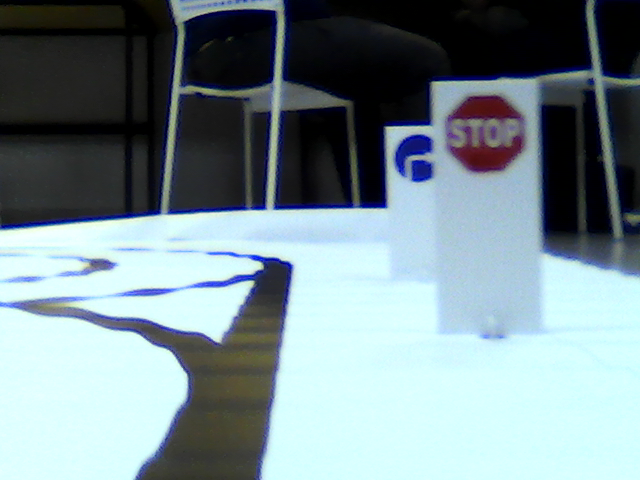Right: (394, 134, 433, 181)
Stop: (449, 99, 526, 172)
